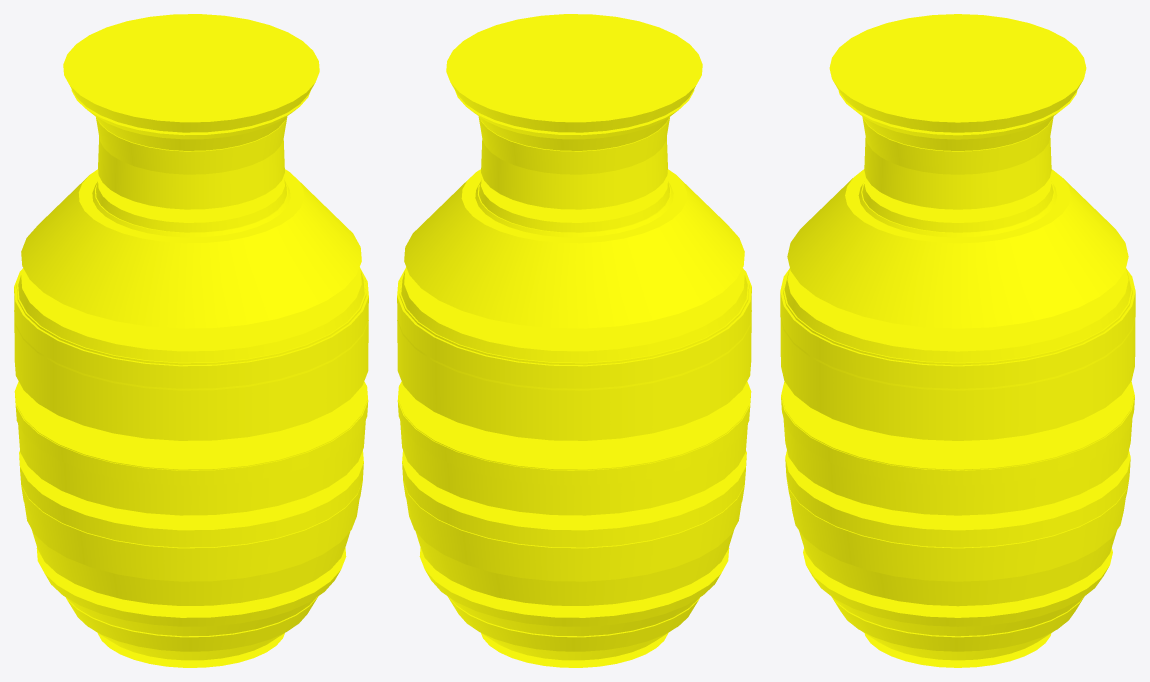
3 renders of one model, left to right at view 1: azimuth 30°, elevation 25°; view 2: azimuth 150°, elevation 25°; view 3: azimuth 270°, elevation 25°, orthographic.
Bounding box in the file's own units: 502 × 885 × 502.
